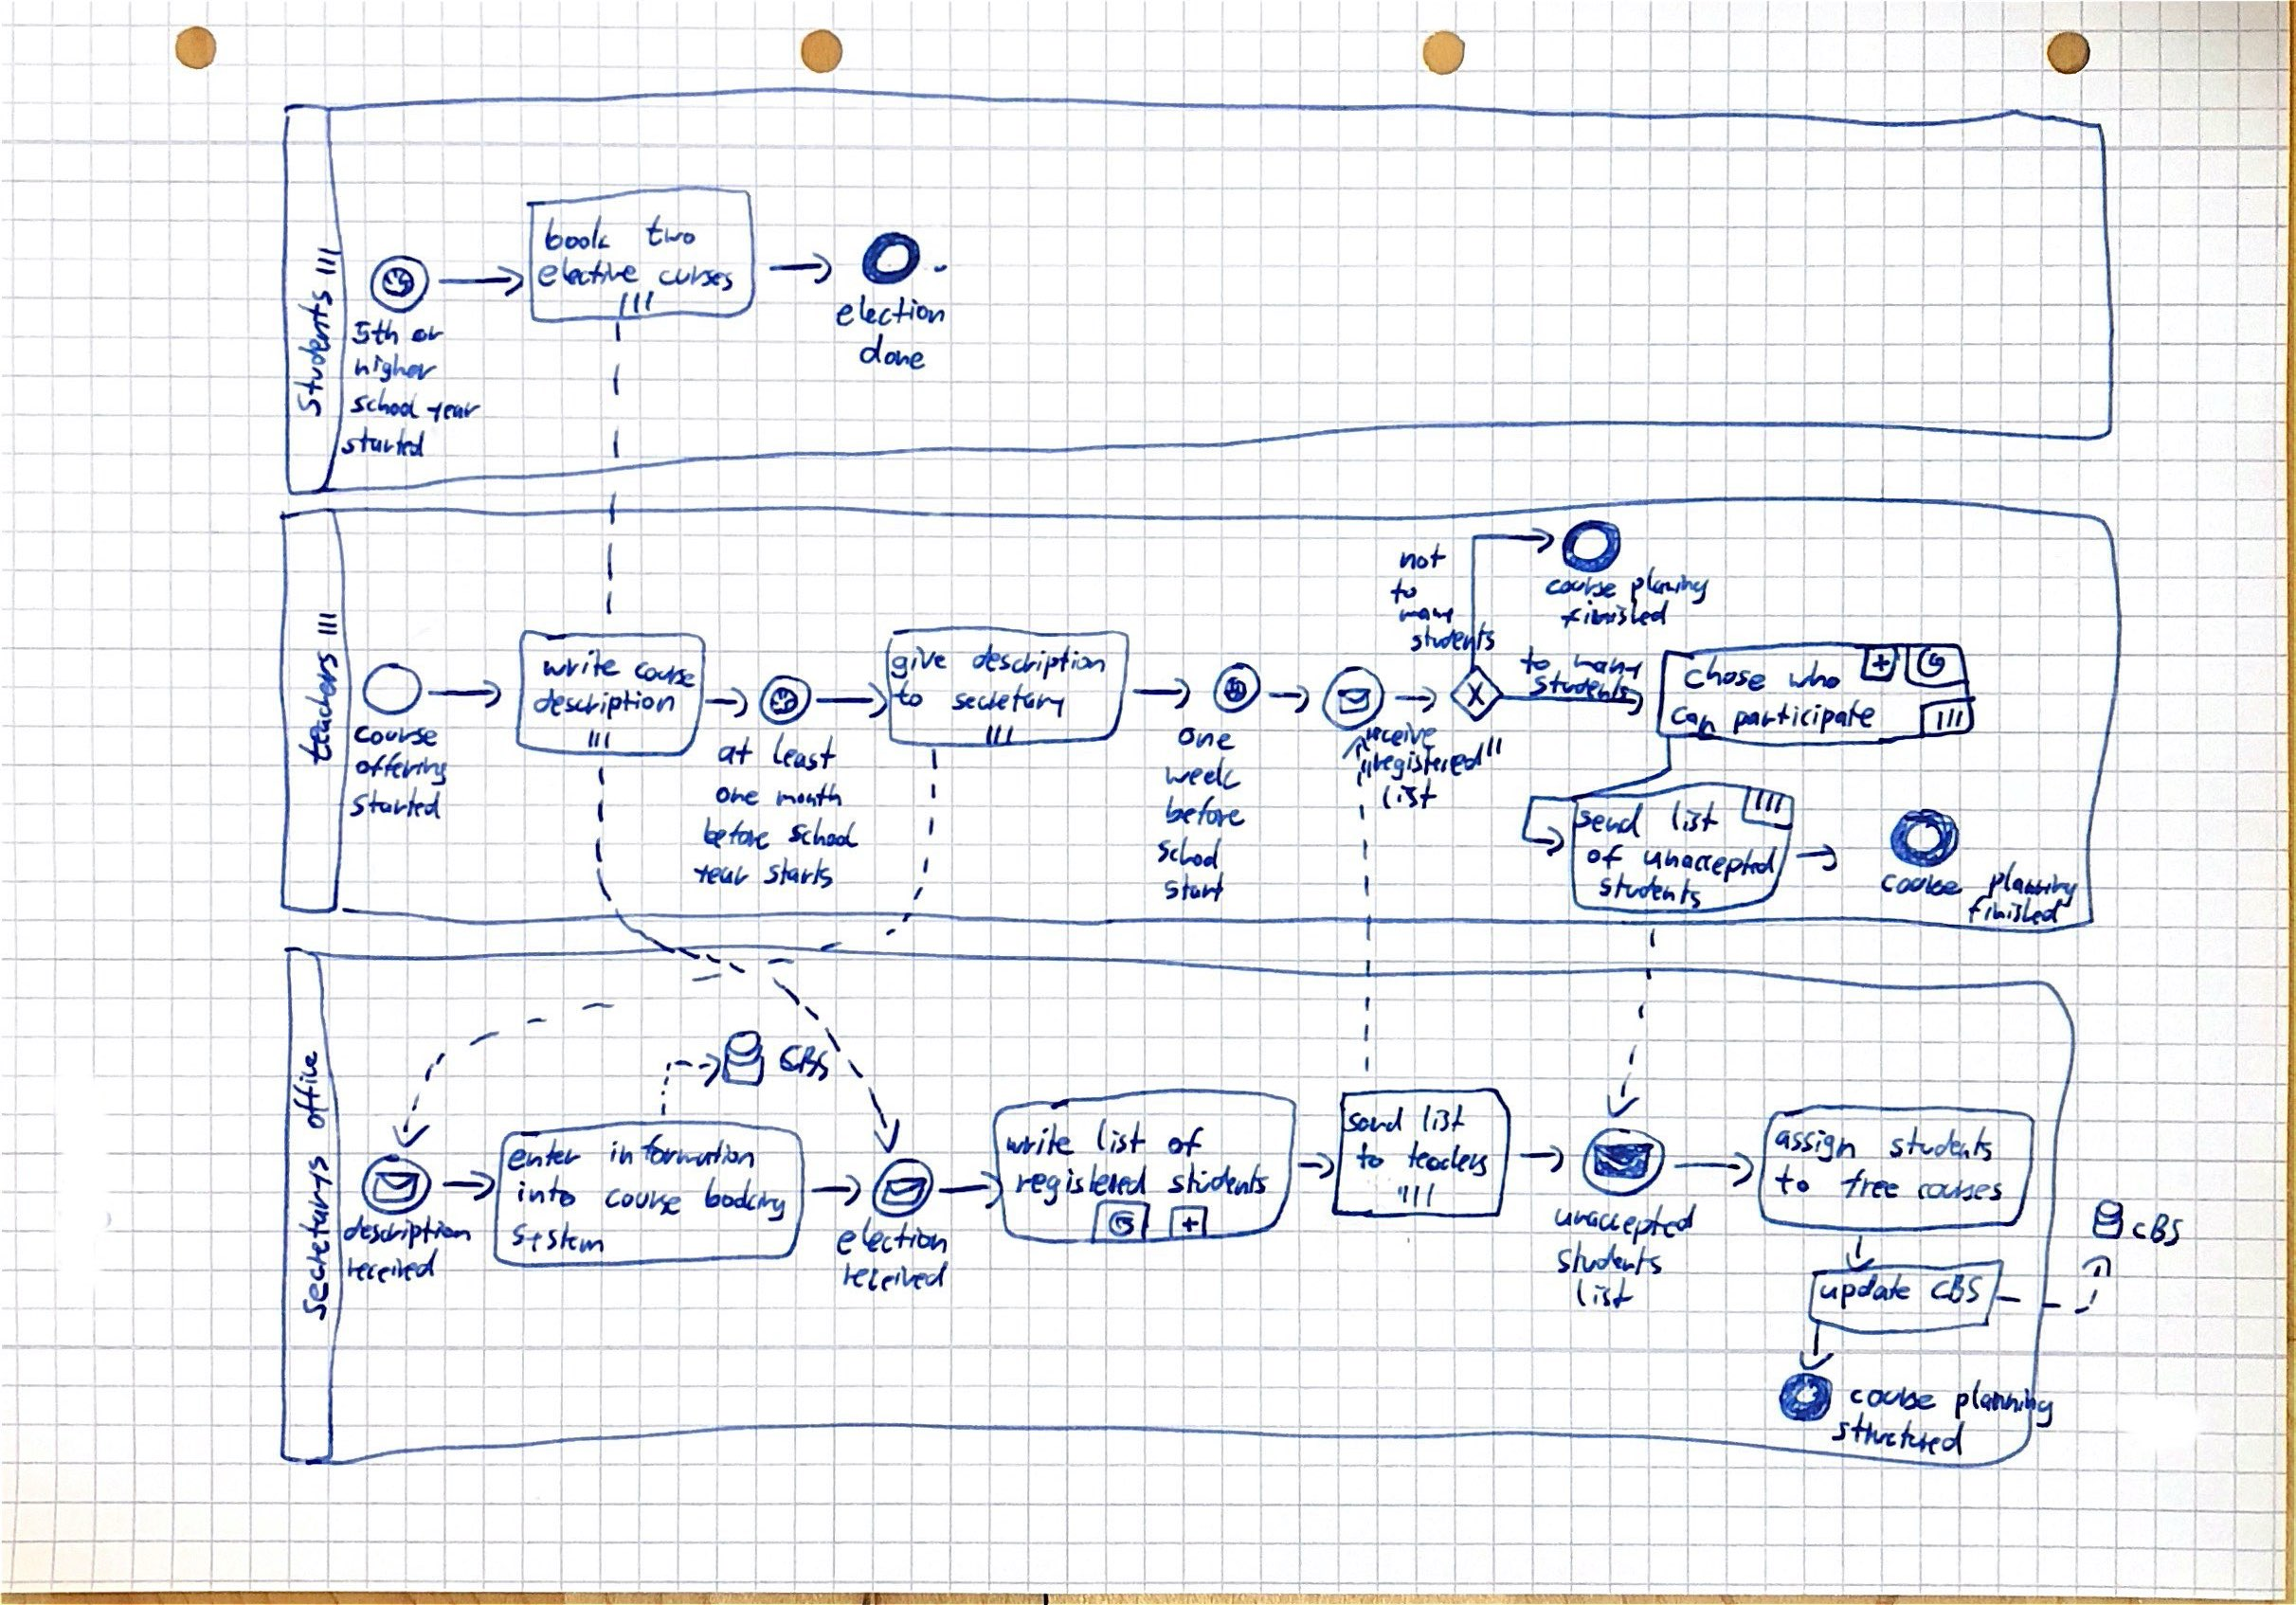5th: (350, 316, 405, 349)
CBS: (782, 1037, 839, 1076), (2130, 1210, 2187, 1247), (1928, 1272, 1987, 1304)
III: (1398, 1181, 1437, 1211), (313, 242, 342, 280), (619, 287, 657, 316), (984, 722, 1020, 747), (583, 727, 614, 751)
Ill: (316, 608, 340, 638)
School: (1156, 831, 1226, 866)
Started: (349, 788, 444, 823)
Students: (296, 287, 334, 416), (1528, 669, 1629, 697)
assign: (1776, 1116, 1865, 1156)
at: (716, 733, 757, 766)
before: (1165, 795, 1247, 832), (701, 816, 772, 850)
book: (542, 211, 615, 252)
booking: (705, 1173, 793, 1217)
can: (1674, 702, 1729, 727)
chose: (1682, 655, 1771, 692)
course: (1848, 1379, 1944, 1407), (1877, 869, 1966, 896), (353, 720, 444, 745), (605, 1188, 687, 1215), (1542, 574, 1620, 600), (636, 655, 705, 680)
courses: (1914, 1176, 2011, 1201)
curses: (656, 263, 737, 292)
description: (532, 686, 678, 720), (969, 643, 1109, 681), (342, 1214, 477, 1250)
done: (861, 331, 930, 368)
election: (835, 1217, 951, 1257), (833, 292, 949, 330)
elective: (536, 254, 644, 289)
enter: (504, 1142, 585, 1175)
finished: (1967, 888, 2067, 924), (1558, 600, 1673, 630)
free: (1839, 1165, 1902, 1199)
give: (889, 643, 951, 682)
higher: (353, 353, 442, 385)
information: (608, 1132, 762, 1167)
into: (517, 1168, 582, 1204)
least: (774, 730, 845, 768)
list: (1094, 1115, 1152, 1153), (1572, 1276, 1636, 1310), (1380, 779, 1439, 811), (1668, 801, 1725, 835), (1419, 1103, 1469, 1135)
many: (1573, 651, 1649, 676), (1396, 604, 1458, 625)
month: (772, 781, 847, 808)
not: (1397, 543, 1448, 570)
of: (1165, 1123, 1205, 1160), (1587, 837, 1632, 868)
offering: (355, 747, 453, 781)
office: (289, 1047, 329, 1132)
one: (1178, 722, 1239, 748), (713, 785, 765, 807)
or: (410, 323, 448, 345)
participate: (1729, 698, 1877, 736)
planning: (1952, 1378, 2056, 1429), (1988, 860, 2085, 898), (1629, 565, 1713, 608)
receive: (1363, 721, 1442, 748)
received: (840, 1258, 952, 1293), (345, 1249, 443, 1284)
registered: (1011, 1162, 1152, 1207), (1363, 739, 1504, 778)
school: (350, 385, 425, 415), (788, 813, 861, 845)
secretary: (949, 681, 1070, 718)
secretarys: (297, 1152, 333, 1318)
send: (1579, 791, 1655, 832), (1345, 1105, 1408, 1135)
start: (1163, 871, 1229, 905)
started: (339, 424, 429, 458)
starts: (763, 856, 836, 889)
structured: (1834, 1407, 1971, 1443)
students: (1887, 1125, 1997, 1165), (1556, 1242, 1671, 1275), (1166, 1161, 1273, 1196), (1599, 864, 1708, 897), (1408, 622, 1497, 655)
system: (510, 1222, 609, 1256)
teachers: (300, 649, 337, 766), (1408, 1133, 1497, 1169)
to: (1773, 1163, 1816, 1196), (1516, 644, 1554, 676), (893, 677, 927, 711), (1353, 1139, 1389, 1170), (1386, 579, 1420, 604)
two: (643, 213, 700, 248)
unaccepted: (1552, 1199, 1699, 1244), (1644, 831, 1780, 873)
update: (1817, 1272, 1916, 1308)
week: (1163, 752, 1246, 788)
who: (1785, 657, 1846, 691)
write: (1004, 1121, 1078, 1156), (538, 646, 616, 678)
year: (425, 398, 481, 426), (691, 863, 754, 886)
